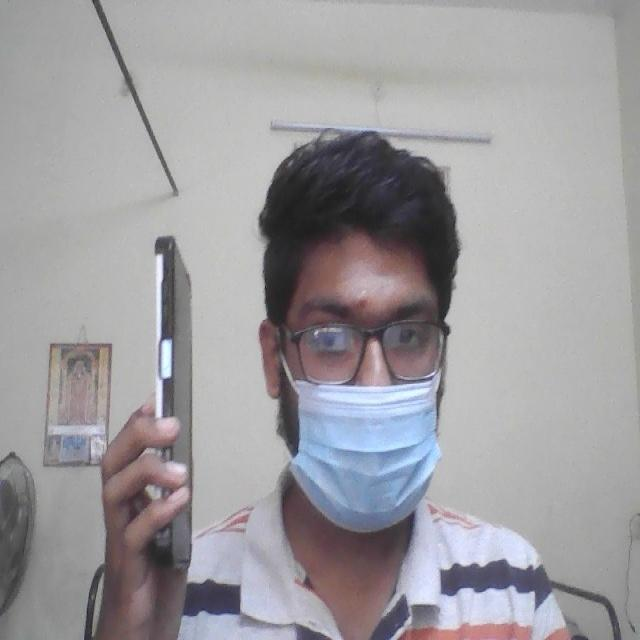Mobile: (151, 231, 199, 578)
